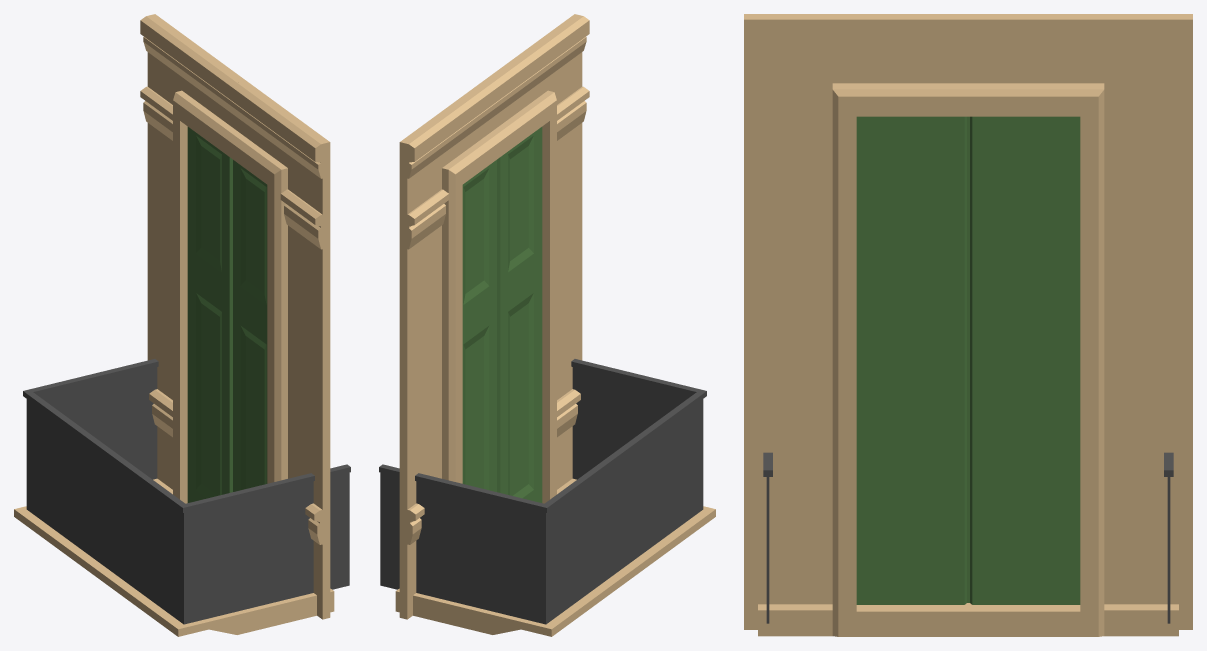
The model's file is Balcony_1_A.fbx.
3 views of the same model, side by side, from view 1: azimuth 30°, elevation 25°; view 2: azimuth 150°, elevation 25°; view 3: azimuth 270°, elevation 25° (orthographic). The views are drawn at different scales.
Parts seen in each view (by area): view 1: Balcony_1_A; view 2: Balcony_1_A; view 3: Balcony_1_A.
Boxes of the visible parts, bbox=[...] form: Balcony_1_A: bbox=[14, 14, 350, 636]; Balcony_1_A: bbox=[379, 14, 715, 636]; Balcony_1_A: bbox=[744, 14, 1192, 636].
Bounding box in the file's own units: 115 × 200 × 300.
